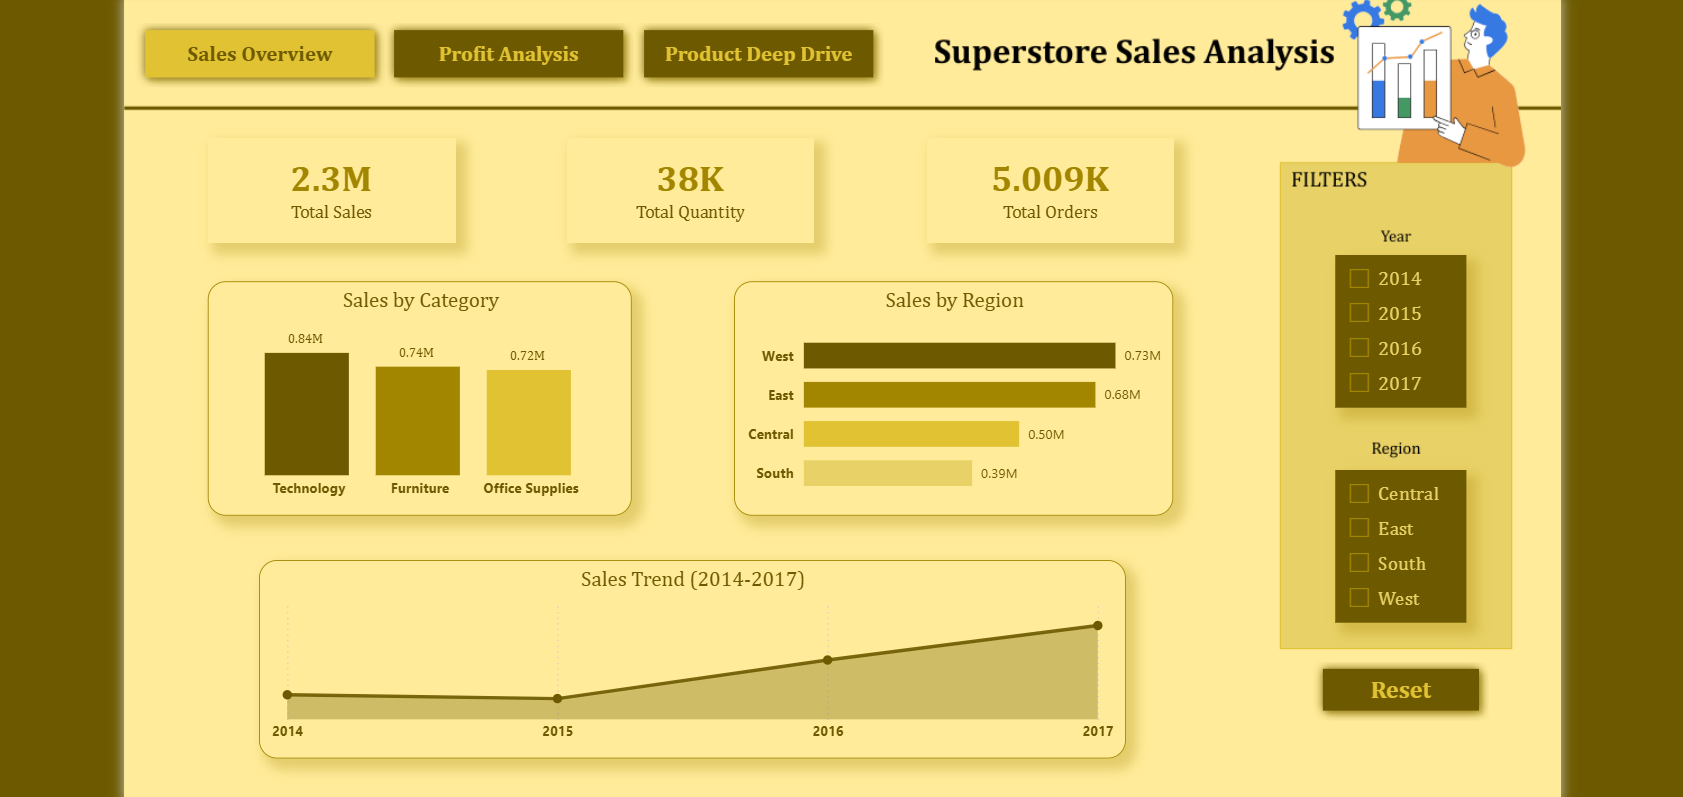

What the dashboard file says about the page in this screenshot:
{"tool":"powerbi","page":{"name":"Sales Overview","canvas":[1280,720],"ordinal":0},"visuals":[{"type":"lineChart","title":"Sales Trend (2014-2017)","fields":{"Category":["superstore_clean.Year"],"Y":["Sum(superstore_clean.Sales)"]},"box":[120.2,503.1,771.8,176.7],"z":0},{"type":"cardVisual","fields":{"Data":["Sum(superstore_clean.Sales)"]},"box":[74.8,126.4,220.9,93.3],"z":1000},{"type":"slicer","fields":{"Values":["superstore_clean.Region"]},"box":[1078.5,423.3,116.6,136.2],"z":2000},{"type":"clusteredBarChart","title":"Sales by Region","fields":{"Y":["Sum(superstore_clean.Sales)"],"Category":["superstore_clean.Region"]},"box":[543.6,255.2,391.4,208.6],"z":3000},{"type":"clusteredColumnChart","title":"Sales by Category","fields":{"Category":["superstore_clean.Category"],"Y":["Sum(superstore_clean.Sales)"]},"box":[74.8,255.2,377.9,208.6],"z":4000},{"type":"cardVisual","fields":{"Data":["Count(superstore_clean.Order ID)"]},"box":[714.1,126.4,220.9,93.3],"z":5000},{"type":"cardVisual","fields":{"Data":["Sum(superstore_clean.Quantity)"]},"box":[394.5,126.4,220.9,93.3],"z":6000},{"type":"actionButton","box":[9.8,22.1,222.1,60.1],"z":7000},{"type":"slicer","fields":{"Values":["superstore_clean.Year"]},"box":[1078.5,231.9,116.6,136.2],"z":8000},{"type":"actionButton","box":[231.9,22.1,222.1,60.1],"z":9000},{"type":"actionButton","box":[454,22.1,222.1,60.1],"z":10000},{"type":"actionButton","box":[1058.9,591.4,157.1,55.2],"z":11000}]}

Visuals, with their boxes on the page's 1280x720 design canvas (x1, y1, x2, y2). These are canvas units, not pixel positions in the 1683x797 screenshot, which may show the page scaled, cropped or inside an application window:
"Sales Trend (2014-2017)" lineChart: <box>120,503,892,680</box>
cardVisual - Sum(superstore_clean.Sales): <box>75,126,296,220</box>
slicer - superstore_clean.Region: <box>1078,423,1195,560</box>
"Sales by Region" clusteredBarChart: <box>544,255,935,464</box>
"Sales by Category" clusteredColumnChart: <box>75,255,453,464</box>
cardVisual - Count(superstore_clean.Order ID): <box>714,126,935,220</box>
cardVisual - Sum(superstore_clean.Quantity): <box>394,126,615,220</box>
actionButton: <box>10,22,232,82</box>
slicer - superstore_clean.Year: <box>1078,232,1195,368</box>
actionButton: <box>232,22,454,82</box>
actionButton: <box>454,22,676,82</box>
actionButton: <box>1059,591,1216,647</box>
